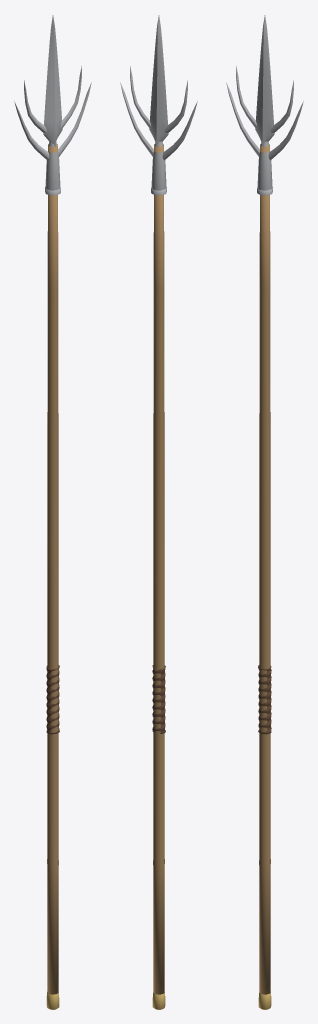
The model's file is elven-branched-spear.glb.
The picture shows the model from 3 angles, left to right: view 1: azimuth 30°, elevation 25°; view 2: azimuth 150°, elevation 25°; view 3: azimuth 330°, elevation 25°; orthographic projection.
Parts seen in each view (by area): view 1: elven-branched-spear; view 2: elven-branched-spear; view 3: elven-branched-spear.
Boxes of the visible parts, x1=… form: elven-branched-spear: x1=14, y1=15, x2=91, y2=1009; elven-branched-spear: x1=120, y1=15, x2=197, y2=1009; elven-branched-spear: x1=226, y1=15, x2=303, y2=1009.
Size of the model in its own units: 0.54 by 6.58 by 0.0991.
